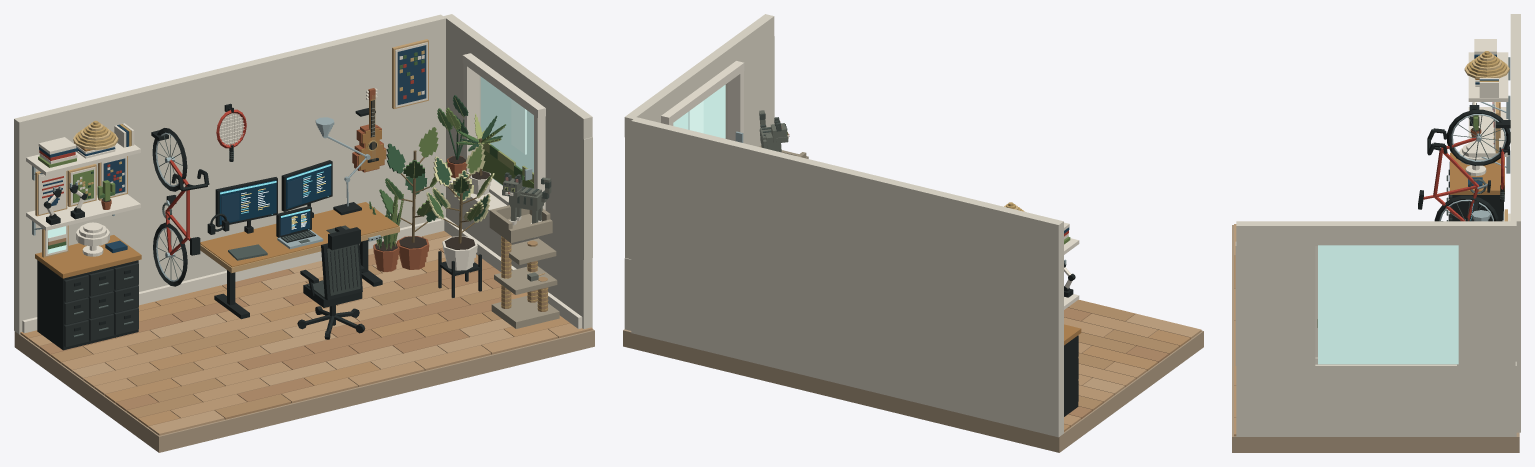
Rendered from bureau.glb.
The picture shows the model from 3 angles, left to right: view 1: azimuth 30°, elevation 25°; view 2: azimuth 150°, elevation 25°; view 3: azimuth 270°, elevation 25°; orthographic projection.
Visible parts, largest first — view 1: 01 • Pièce et fenêtre / Craie • murs, 01 • Pièce et fenêtre / Parquet 01, 01 • Pièce et fenêtre / Tranche du socle, 01 • Pièce et fenêtre / Parquet 02, 01 • Pièce et fenêtre / Parquet 03, 01 • Pièce et fenêtre / Porcelaine, 01 • Pièce et fenêtre / Parquet 00, 01 • Pièce et fenêtre / Parquet 04, 02 • Meuble noir et étagères / Porcelaine, 02 • Meuble noir et étagères / Noir • façades, 08 • Arbre à chat et chat réveillé / Arbre à chat • taupe, 04 • Bureau et informatique / Chêne miel (+35 smaller); view 2: 01 • Pièce et fenêtre / Craie • murs, 01 • Pièce et fenêtre / Tranche du socle, 01 • Pièce et fenêtre / Parquet 01, 01 • Pièce et fenêtre / Parquet 04, 01 • Pièce et fenêtre / Porcelaine, 02 • Meuble noir et étagères / Anthracite, 01 • Pièce et fenêtre / Parquet 00, 01 • Pièce et fenêtre / Ciel laiteux, 01 • Pièce et fenêtre / Parquet 03, 01 • Pièce et fenêtre / Parquet 02, 08 • Arbre à chat et chat réveillé / Chat • gris tigré; view 3: 01 • Pièce et fenêtre / Craie • murs, 01 • Pièce et fenêtre / Ciel laiteux, 01 • Pièce et fenêtre / Tranche du socle, 02 • Meuble noir et étagères / Porcelaine, 03 • Vélo suspendu / Anthracite, 02 • Meuble noir et étagères / Chêne miel, 03 • Vélo suspendu / Vermillon, 02 • Meuble noir et étagères / Anthracite, 02 • Meuble noir et étagères / Paille, 03 • Vélo suspendu / Aluminium brossé, 01 • Pièce et fenêtre / Porcelaine, 03 • Vélo suspendu / Acier sombre (+3 smaller).
Boxes of the visible parts, x1=… form: 01 • Pièce et fenêtre / Craie • murs: x1=14, y1=14, x2=592, y2=334; 01 • Pièce et fenêtre / Parquet 01: x1=28, y1=281, x2=592, y2=418; 01 • Pièce et fenêtre / Tranche du socle: x1=14, y1=329, x2=594, y2=452; 01 • Pièce et fenêtre / Parquet 02: x1=39, y1=248, x2=501, y2=411; 01 • Pièce et fenêtre / Parquet 03: x1=72, y1=235, x2=513, y2=435; 01 • Pièce et fenêtre / Porcelaine: x1=22, y1=53, x2=582, y2=333; 01 • Pièce et fenêtre / Parquet 00: x1=20, y1=254, x2=569, y2=427; 01 • Pièce et fenêtre / Parquet 04: x1=50, y1=231, x2=513, y2=419; 02 • Meuble noir et étagères / Porcelaine: x1=26, y1=123, x2=140, y2=256; 02 • Meuble noir et étagères / Noir • façades: x1=64, y1=262, x2=138, y2=347; 08 • Arbre à chat et chat réveillé / Arbre à chat • taupe: x1=489, y1=205, x2=559, y2=328; 04 • Bureau et informatique / Chêne miel: x1=200, y1=202, x2=398, y2=267; 01 • Pièce et fenêtre / Craie • murs: x1=624, y1=14, x2=1063, y2=437; 01 • Pièce et fenêtre / Tranche du socle: x1=623, y1=329, x2=1203, y2=452; 01 • Pièce et fenêtre / Parquet 01: x1=1064, y1=313, x2=1157, y2=426; 01 • Pièce et fenêtre / Parquet 04: x1=1068, y1=299, x2=1179, y2=411; 01 • Pièce et fenêtre / Porcelaine: x1=661, y1=61, x2=744, y2=143; 02 • Meuble noir et étagères / Anthracite: x1=1064, y1=263, x2=1078, y2=416; 01 • Pièce et fenêtre / Parquet 00: x1=1064, y1=330, x2=1190, y2=431; 01 • Pièce et fenêtre / Ciel laiteux: x1=673, y1=85, x2=725, y2=138; 01 • Pièce et fenêtre / Parquet 03: x1=1082, y1=313, x2=1201, y2=394; 01 • Pièce et fenêtre / Parquet 02: x1=1064, y1=307, x2=1168, y2=419; 08 • Arbre à chat et chat réveillé / Chat • gris tigré: x1=759, y1=110, x2=788, y2=152; 01 • Pièce et fenêtre / Craie • murs: x1=1235, y1=14, x2=1520, y2=436; 01 • Pièce et fenêtre / Ciel laiteux: x1=1318, y1=245, x2=1458, y2=364; 01 • Pièce et fenêtre / Tranche du socle: x1=1232, y1=225, x2=1519, y2=452; 02 • Meuble noir et étagères / Porcelaine: x1=1459, y1=39, x2=1508, y2=176; 03 • Vélo suspendu / Anthracite: x1=1418, y1=109, x2=1510, y2=221; 02 • Meuble noir et étagères / Chêne miel: x1=1450, y1=78, x2=1504, y2=194; 03 • Vélo suspendu / Vermillon: x1=1423, y1=137, x2=1478, y2=221; 02 • Meuble noir et étagères / Anthracite: x1=1448, y1=103, x2=1503, y2=221; 02 • Meuble noir et étagères / Paille: x1=1467, y1=51, x2=1506, y2=138; 03 • Vélo suspendu / Aluminium brossé: x1=1439, y1=114, x2=1506, y2=221; 01 • Pièce et fenêtre / Porcelaine: x1=1315, y1=213, x2=1510, y2=364; 03 • Vélo suspendu / Acier sombre: x1=1440, y1=115, x2=1504, y2=221.
Bounding box in the file's own units: 6.8 × 3.4 × 3.92.
